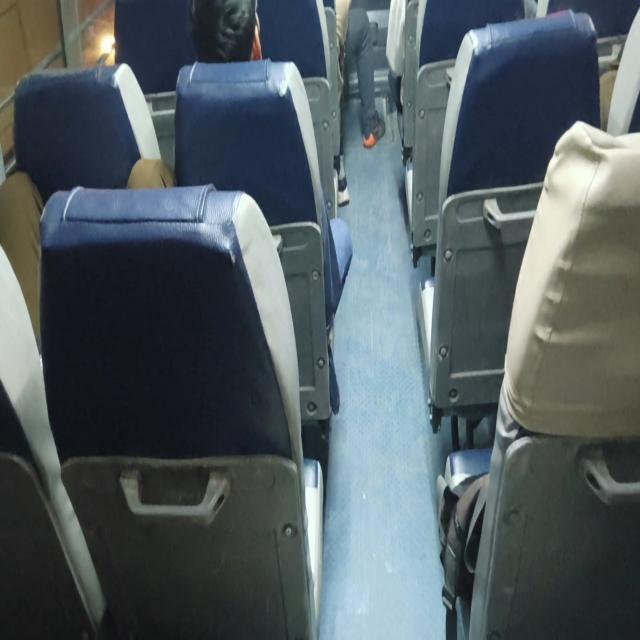person: (126, 0, 353, 413), (334, 0, 386, 148), (187, 0, 262, 64)
